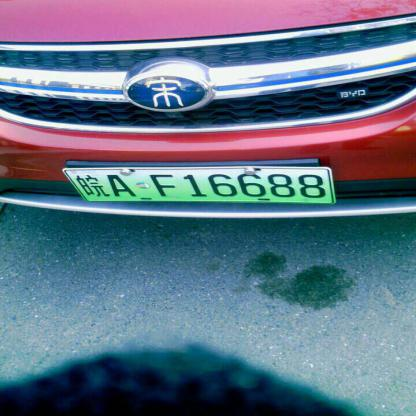lp: (63, 169, 332, 202)
